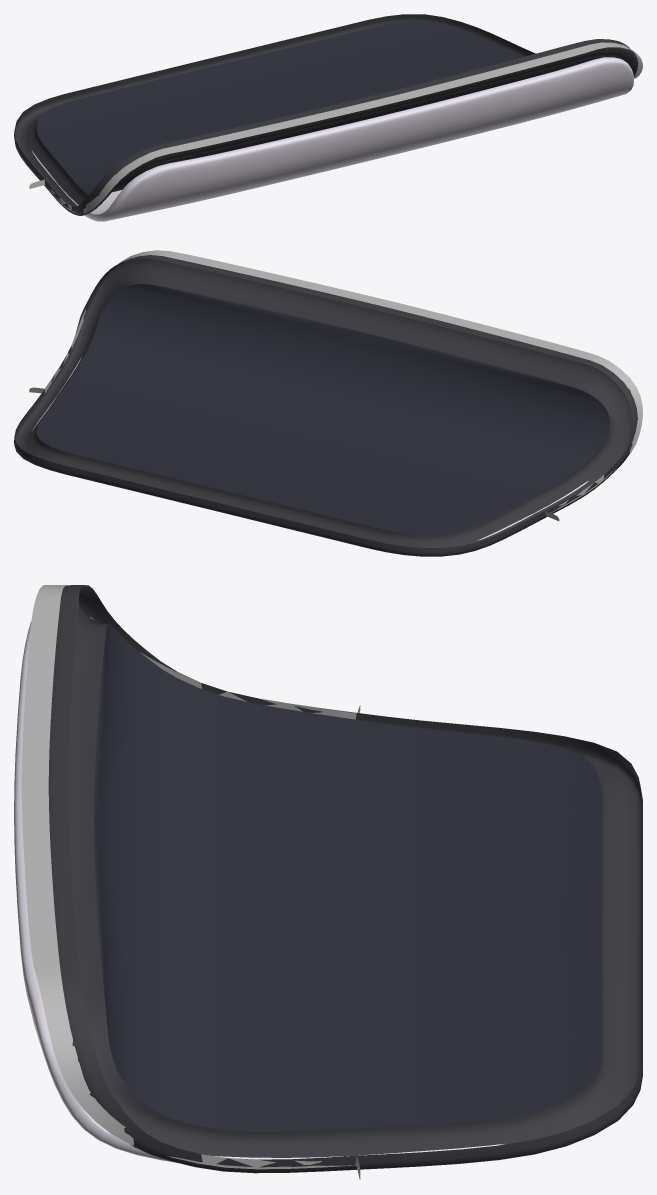
The model's file is touchpad.obj.
The picture shows the model from 3 angles, top to bottom: view 1: azimuth 30°, elevation 25°; view 2: azimuth 150°, elevation 25°; view 3: azimuth 270°, elevation 25°; orthographic projection. The views are drawn at different scales.
Visible parts, largest first — view 1: touchpad; view 2: touchpad; view 3: touchpad.
Part boxes in pixels (x1=…): touchpad: x1=14, y1=14, x2=642, y2=221; touchpad: x1=14, y1=250, x2=642, y2=556; touchpad: x1=14, y1=585, x2=642, y2=1179.
Size of the model in its own units: 0.8349 by 0.1402 by 0.4582.
